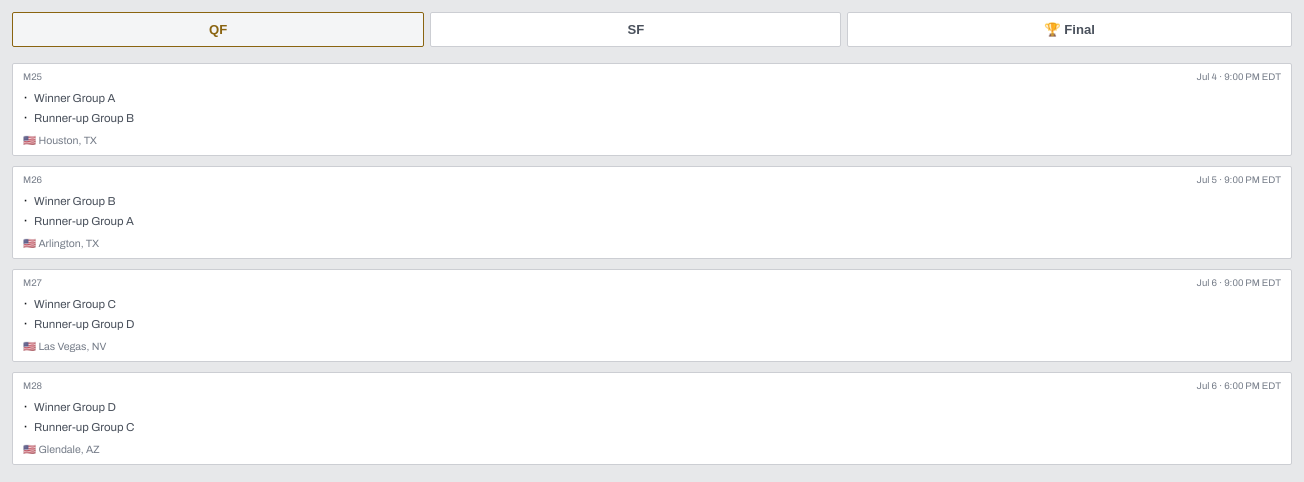
Scenario: Bracket — mobile round view › switches the visible round when a pill is tapped
What coordinates should you click on to do the following:
click the tab with aria-label "Semi-final"
I would click on:
 (636, 30)
Its box is [430, 12, 841, 47].
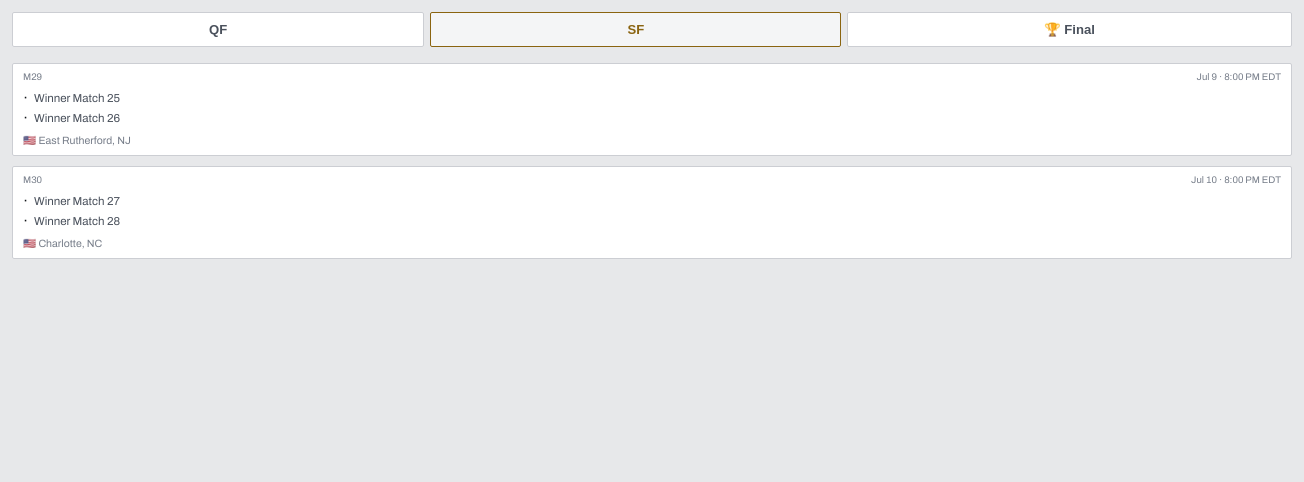
expect the button with id "bx-m29" is shown: met, box [12, 63, 1292, 156]
expect the button with id "bx-m25" is gone: met
